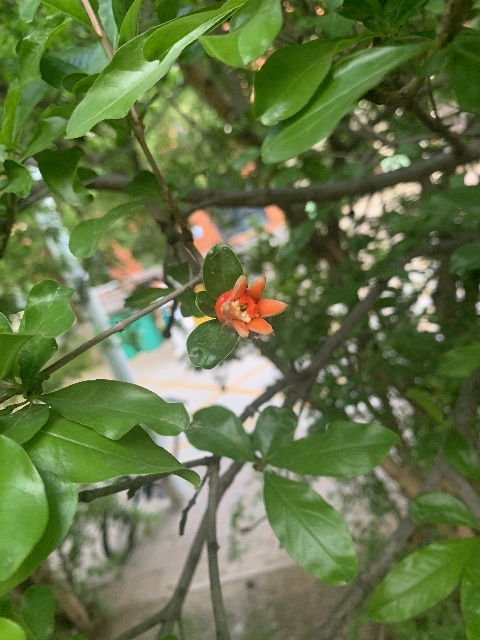flower: (214, 274, 288, 338)
